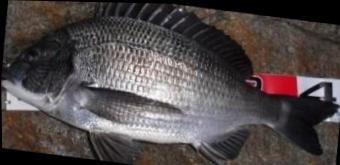fish: (1, 2, 339, 164)
